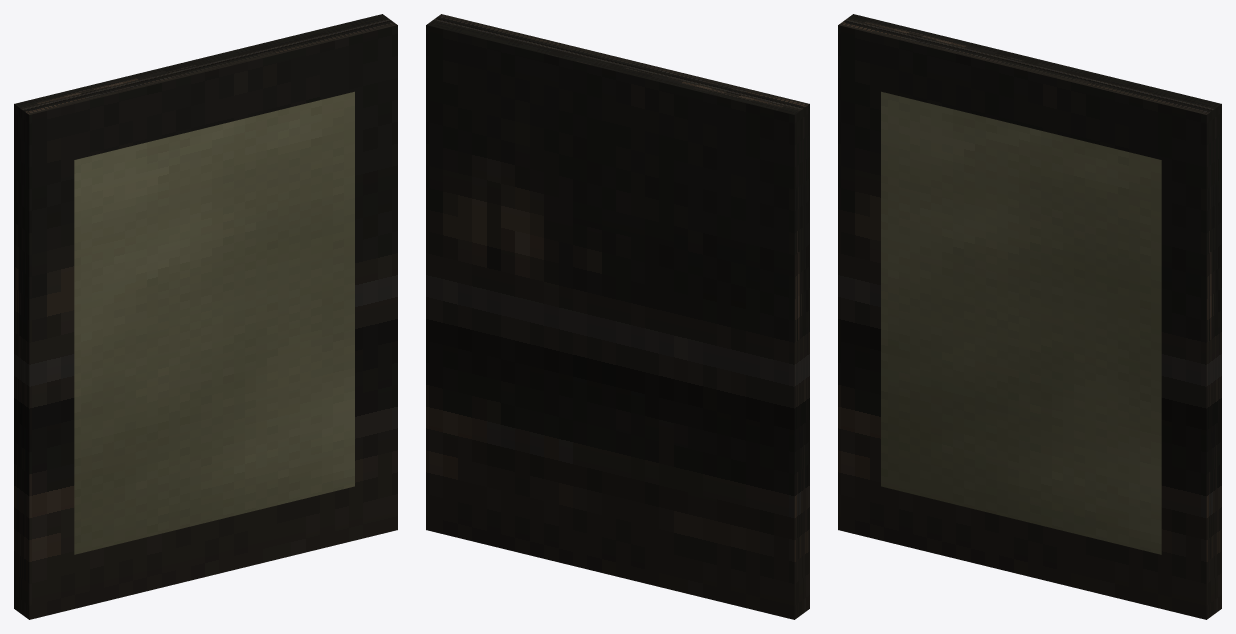
Rendered from prop_portrait-3.glb.
The picture shows the model from 3 angles, left to right: view 1: azimuth 30°, elevation 25°; view 2: azimuth 150°, elevation 25°; view 3: azimuth 330°, elevation 25°; orthographic projection.
Parts seen in each view (by area): view 1: prop_portrait-3; view 2: prop_portrait-3; view 3: prop_portrait-3.
Boxes of the visible parts, box(x1,y1,x2,y2) form: prop_portrait-3: box(14, 14, 397, 619); prop_portrait-3: box(426, 14, 809, 619); prop_portrait-3: box(838, 14, 1221, 619).
Size of the model in its own units: 0.42 by 0.55 by 0.032.
Materials: 2 (2 with a texture image).
